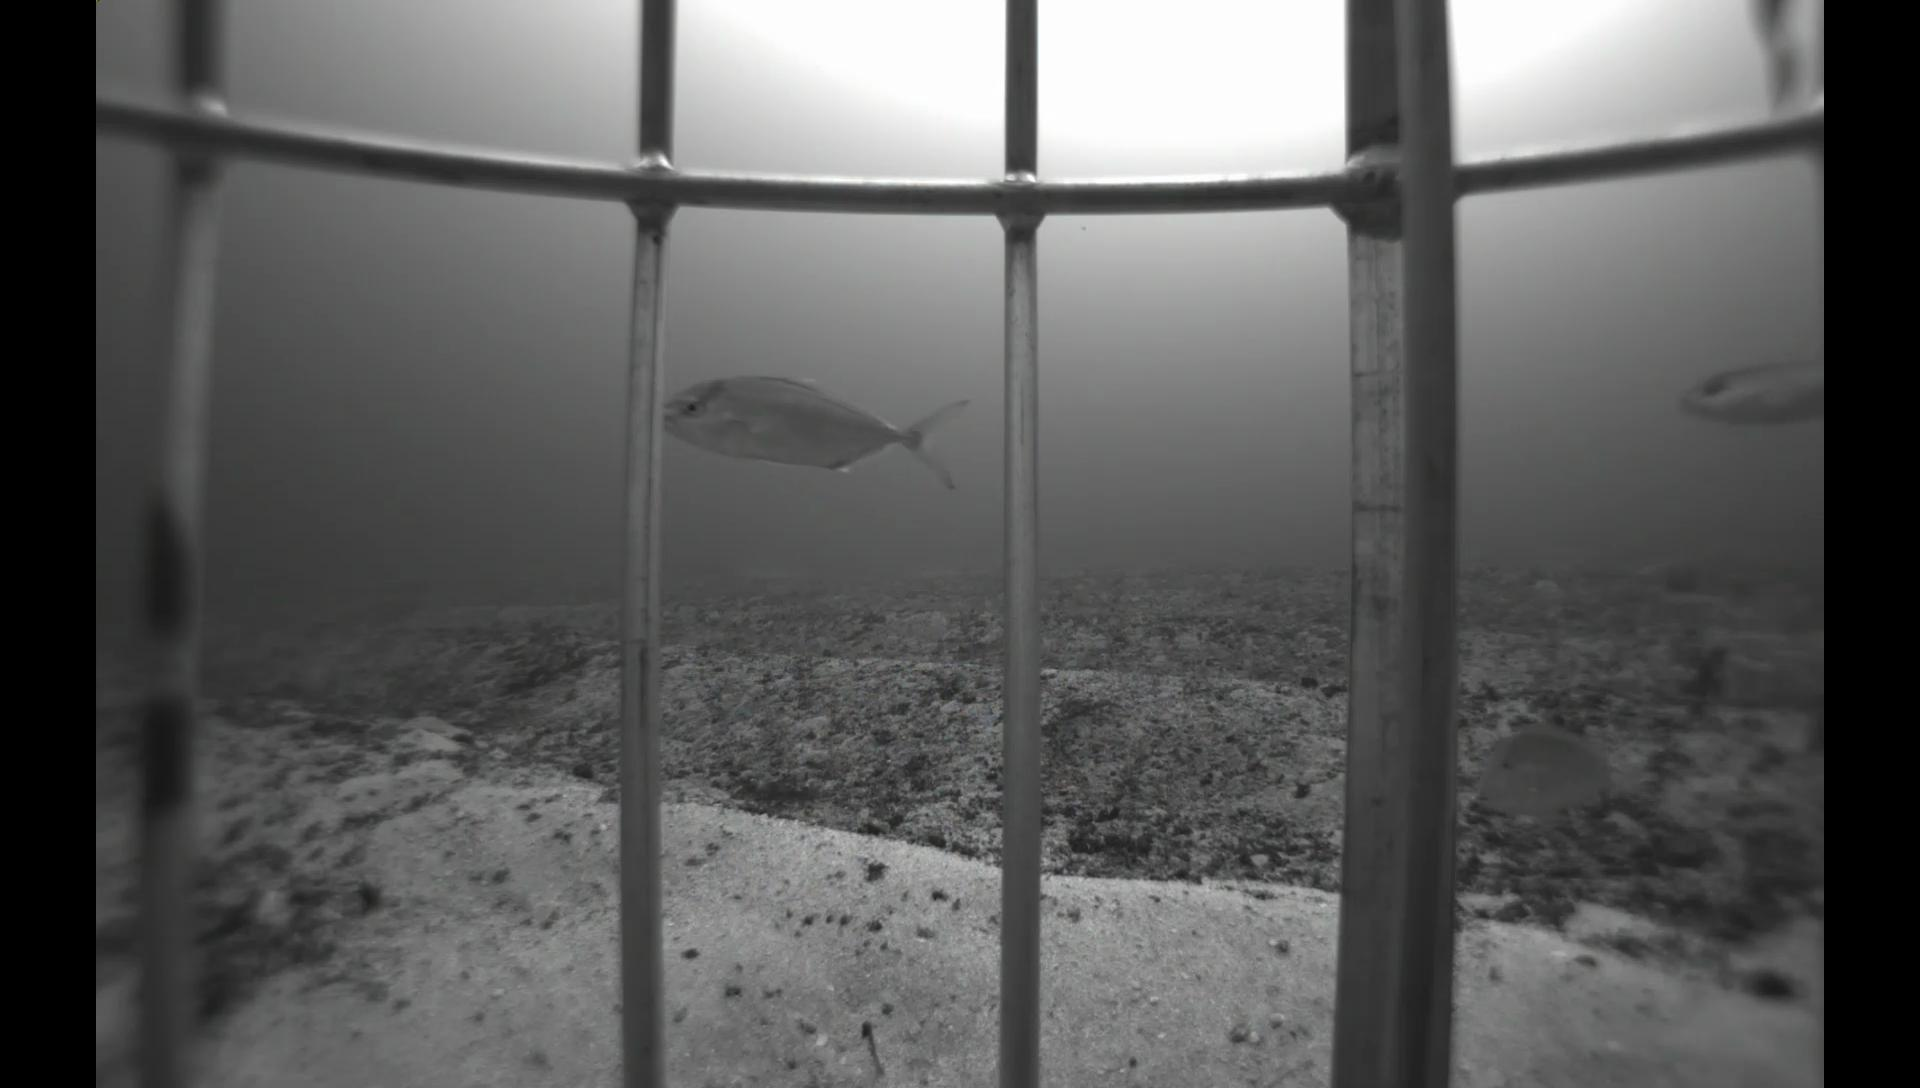CALAMUSPRORIDENS-170210605: (1460, 717, 1640, 837)
RHOMBOPLITESAURORUBENS-170152001: (1659, 342, 1822, 431), (1731, 0, 1811, 125), (1797, 700, 1822, 760)
SERIOLAFASCIATA-170113103: (659, 368, 984, 506)
